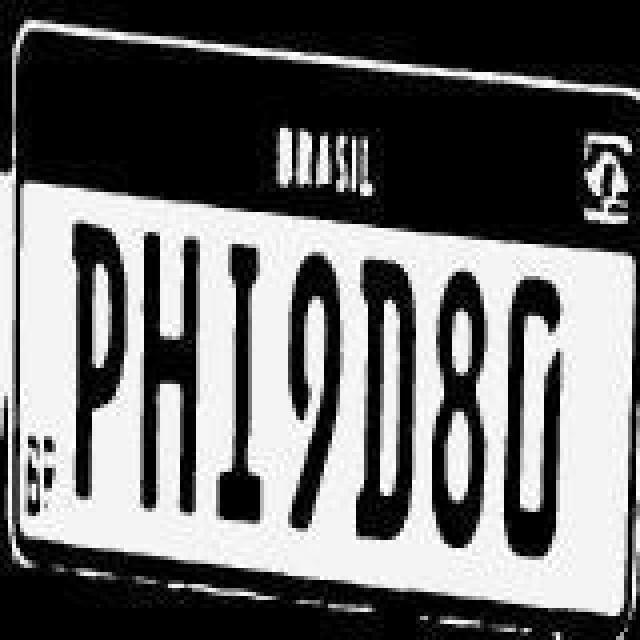8: (426, 266, 494, 550)
9: (278, 256, 354, 536)
D: (348, 254, 420, 538), (496, 280, 560, 568)
H: (130, 226, 206, 518)
I: (214, 232, 282, 520)
P: (64, 218, 128, 510)
